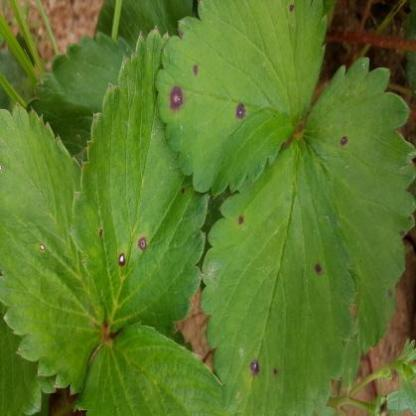Strawberry_Leaf_Spot: (199, 137, 359, 415), (70, 25, 208, 339), (155, 0, 328, 198), (302, 57, 416, 356), (0, 101, 110, 397)
